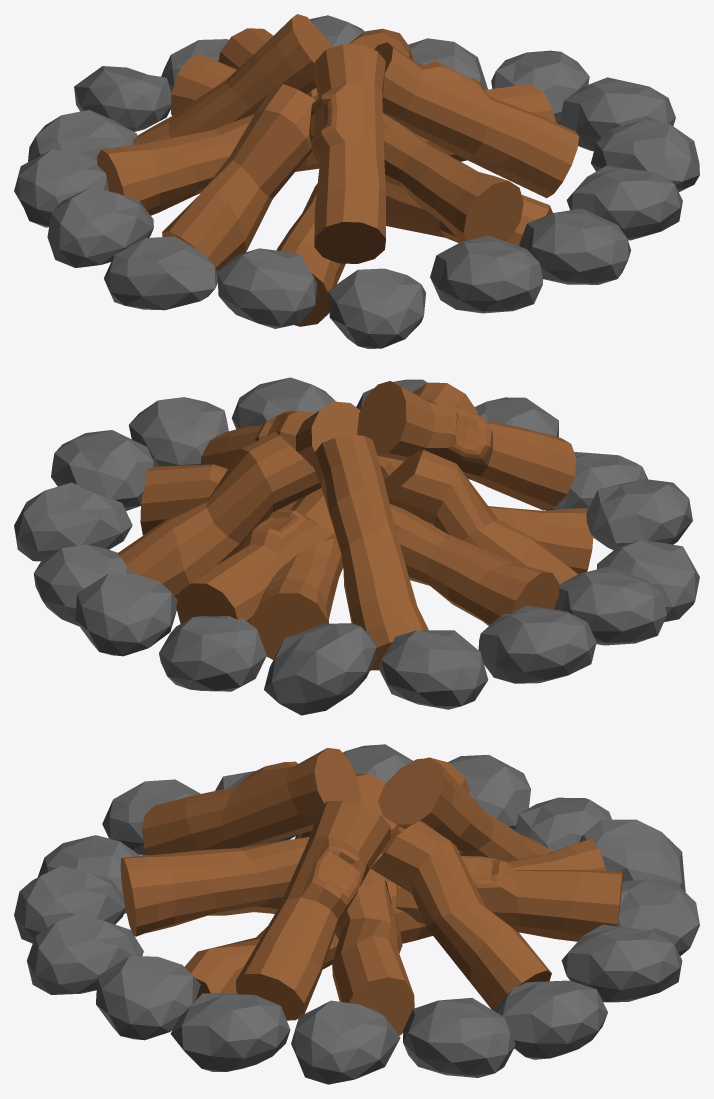
File: Bonfire.fbx
3 renders of one model, top to bottom at view 1: azimuth 30°, elevation 25°; view 2: azimuth 150°, elevation 25°; view 3: azimuth 270°, elevation 25°, orthographic. The views are drawn at different scales.
Visible parts, largest first — view 1: Rocks, Icosphere.005; view 2: Rocks, Icosphere.005; view 3: Rocks, Icosphere.005.
Part boxes in pixels (box(x1,y1,x2,y2)): Rocks: box(97, 14, 578, 326); Icosphere.005: box(14, 15, 699, 348); Rocks: box(118, 381, 593, 670); Icosphere.005: box(14, 377, 699, 715); Rocks: box(120, 748, 622, 1035); Icosphere.005: box(14, 744, 699, 1084).
Size of the model in its own units: 0.9523 by 0.9028 by 0.3266.
